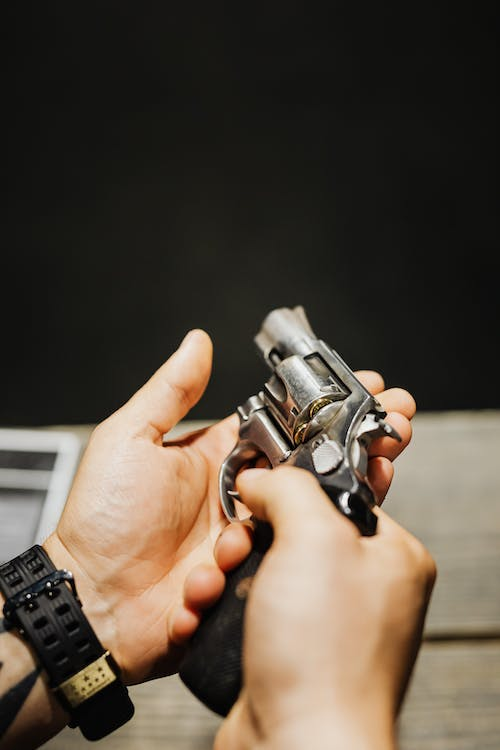gun: (170, 300, 406, 726)
